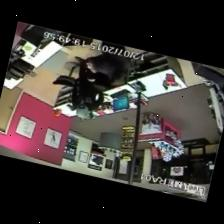person: (85, 41, 130, 89), (71, 55, 103, 117)
